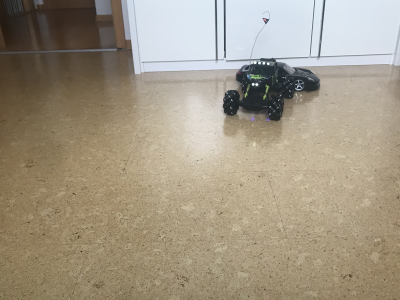remote control car: (222, 54, 297, 121)
